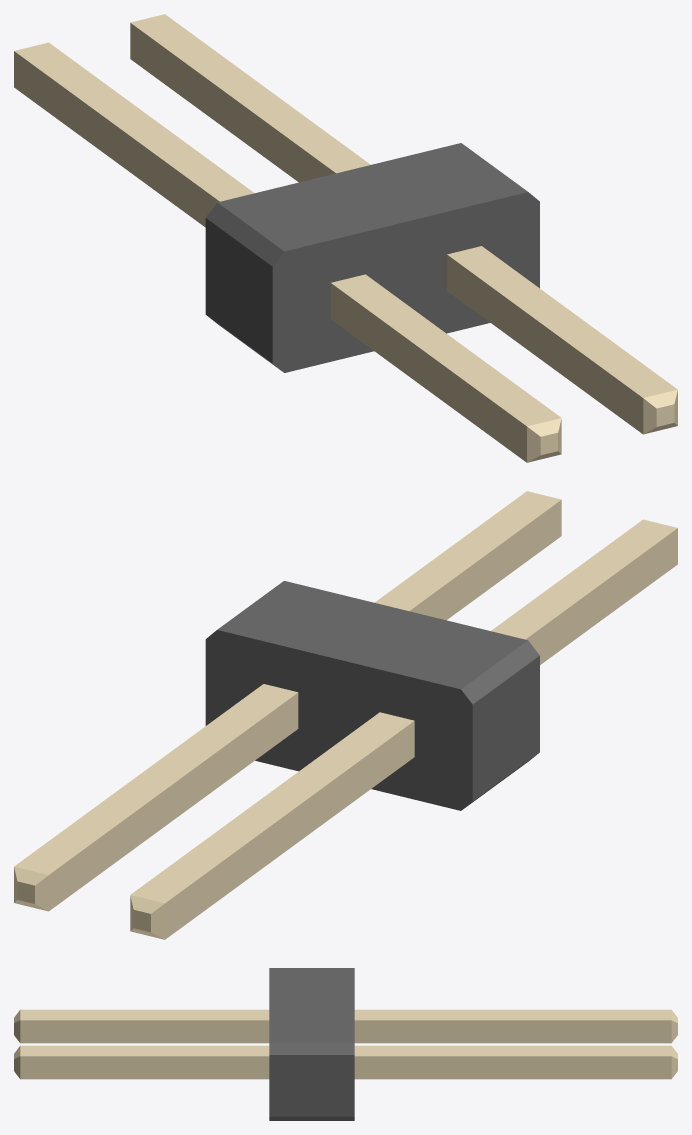
File: PinHeader_2x01_P1.00mm_Vertical.glb
The picture shows the model from 3 angles, top to bottom: view 1: azimuth 30°, elevation 25°; view 2: azimuth 150°, elevation 25°; view 3: azimuth 270°, elevation 25°; orthographic projection. The views are drawn at different scales.
Parts seen in each view (by area): view 1: Shape_IndexedFaceSet.003, Shape_IndexedFaceSet.001, Shape_IndexedFaceSet.013, Shape_IndexedFaceSet.015, Shape_IndexedFaceSet.023, Shape_IndexedFaceSet.024, Shape_IndexedFaceSet.018, Shape_IndexedFaceSet.021, Shape_IndexedFaceSet.010, Shape_IndexedFaceSet.016, Shape_IndexedFaceSet.007, Shape_IndexedFaceSet.005; view 2: Shape_IndexedFaceSet.004, Shape_IndexedFaceSet.001, Shape_IndexedFaceSet.021, Shape_IndexedFaceSet.023, Shape_IndexedFaceSet.024, Shape_IndexedFaceSet.018, Shape_IndexedFaceSet.007, Shape_IndexedFaceSet.016, Shape_IndexedFaceSet.010, Shape_IndexedFaceSet.015, Shape_IndexedFaceSet.013, Shape_IndexedFaceSet.005; view 3: Shape_IndexedFaceSet.019, Shape_IndexedFaceSet.025, Shape_IndexedFaceSet.001, Shape_IndexedFaceSet.011, Shape_IndexedFaceSet.017, Shape_IndexedFaceSet.002, Shape_IndexedFaceSet.018, Shape_IndexedFaceSet.024, Shape_IndexedFaceSet.010, Shape_IndexedFaceSet.016, Shape_IndexedFaceSet, Shape_IndexedFaceSet.006.
Boxes of the visible parts, x1,y1,x2,y2 form: Shape_IndexedFaceSet.003: (272, 192, 539, 372); Shape_IndexedFaceSet.001: (217, 143, 527, 251); Shape_IndexedFaceSet.013: (447, 255, 643, 434); Shape_IndexedFaceSet.015: (330, 283, 526, 462); Shape_IndexedFaceSet.023: (14, 51, 219, 227); Shape_IndexedFaceSet.024: (14, 42, 254, 201); Shape_IndexedFaceSet.018: (130, 14, 370, 173); Shape_IndexedFaceSet.021: (130, 23, 335, 182); Shape_IndexedFaceSet.010: (447, 246, 677, 397); Shape_IndexedFaceSet.016: (331, 274, 561, 426); Shape_IndexedFaceSet.007: (205, 218, 272, 363); Shape_IndexedFaceSet.005: (205, 202, 284, 266); Shape_IndexedFaceSet.004: (205, 630, 472, 810); Shape_IndexedFaceSet.001: (217, 581, 527, 689); Shape_IndexedFaceSet.021: (48, 693, 298, 911); Shape_IndexedFaceSet.023: (165, 721, 414, 939); Shape_IndexedFaceSet.024: (130, 712, 414, 903); Shape_IndexedFaceSet.018: (14, 684, 297, 874); Shape_IndexedFaceSet.007: (472, 655, 539, 801); Shape_IndexedFaceSet.016: (491, 519, 677, 639); Shape_IndexedFaceSet.010: (374, 491, 561, 610); Shape_IndexedFaceSet.015: (526, 528, 677, 664); Shape_IndexedFaceSet.013: (409, 500, 561, 620); Shape_IndexedFaceSet.005: (461, 640, 539, 704); Shape_IndexedFaceSet.019: (354, 1056, 671, 1079); Shape_IndexedFaceSet.025: (354, 1020, 671, 1043); Shape_IndexedFaceSet.001: (269, 968, 354, 1043); Shape_IndexedFaceSet.011: (20, 1056, 269, 1079); Shape_IndexedFaceSet.017: (20, 1020, 269, 1043); Shape_IndexedFaceSet.002: (269, 1055, 354, 1116); Shape_IndexedFaceSet.018: (354, 1045, 671, 1056); Shape_IndexedFaceSet.024: (354, 1009, 671, 1020); Shape_IndexedFaceSet.010: (20, 1045, 269, 1056); Shape_IndexedFaceSet.016: (20, 1009, 269, 1020); Shape_IndexedFaceSet: (269, 1043, 354, 1054); Shape_IndexedFaceSet.006: (269, 1116, 354, 1120).
Bounding box in the file's own units: 0.906 × 0.394 × 3.07.
